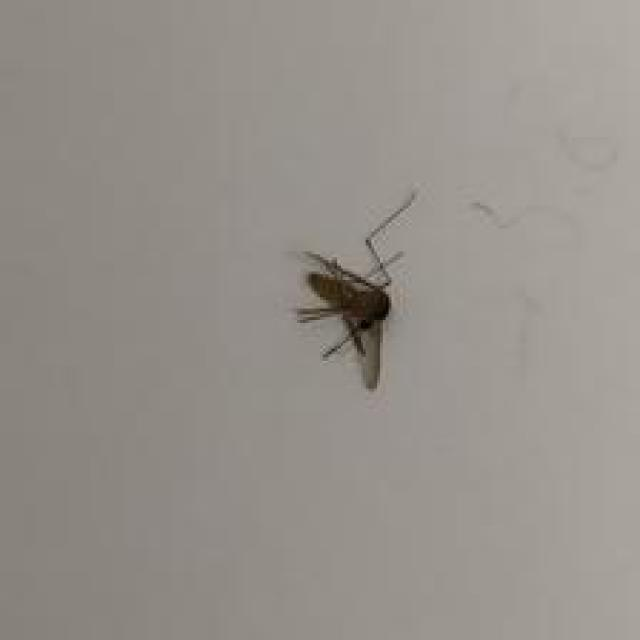Culex: (291, 186, 420, 391)
